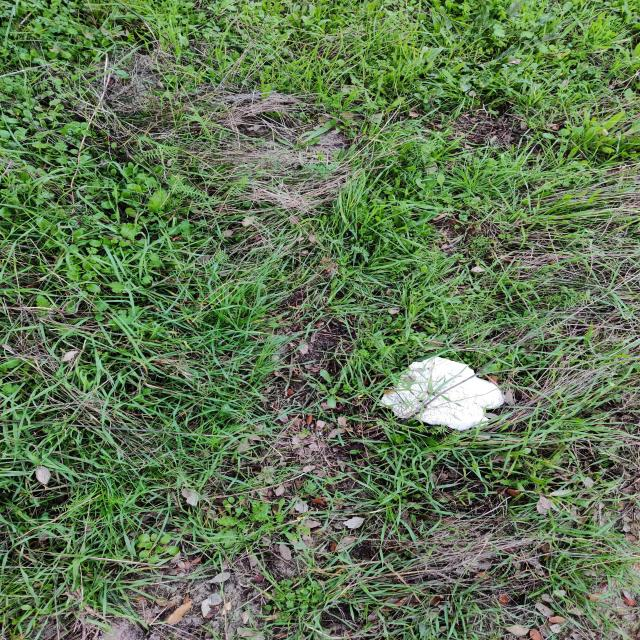litter: (364, 360, 507, 435)
